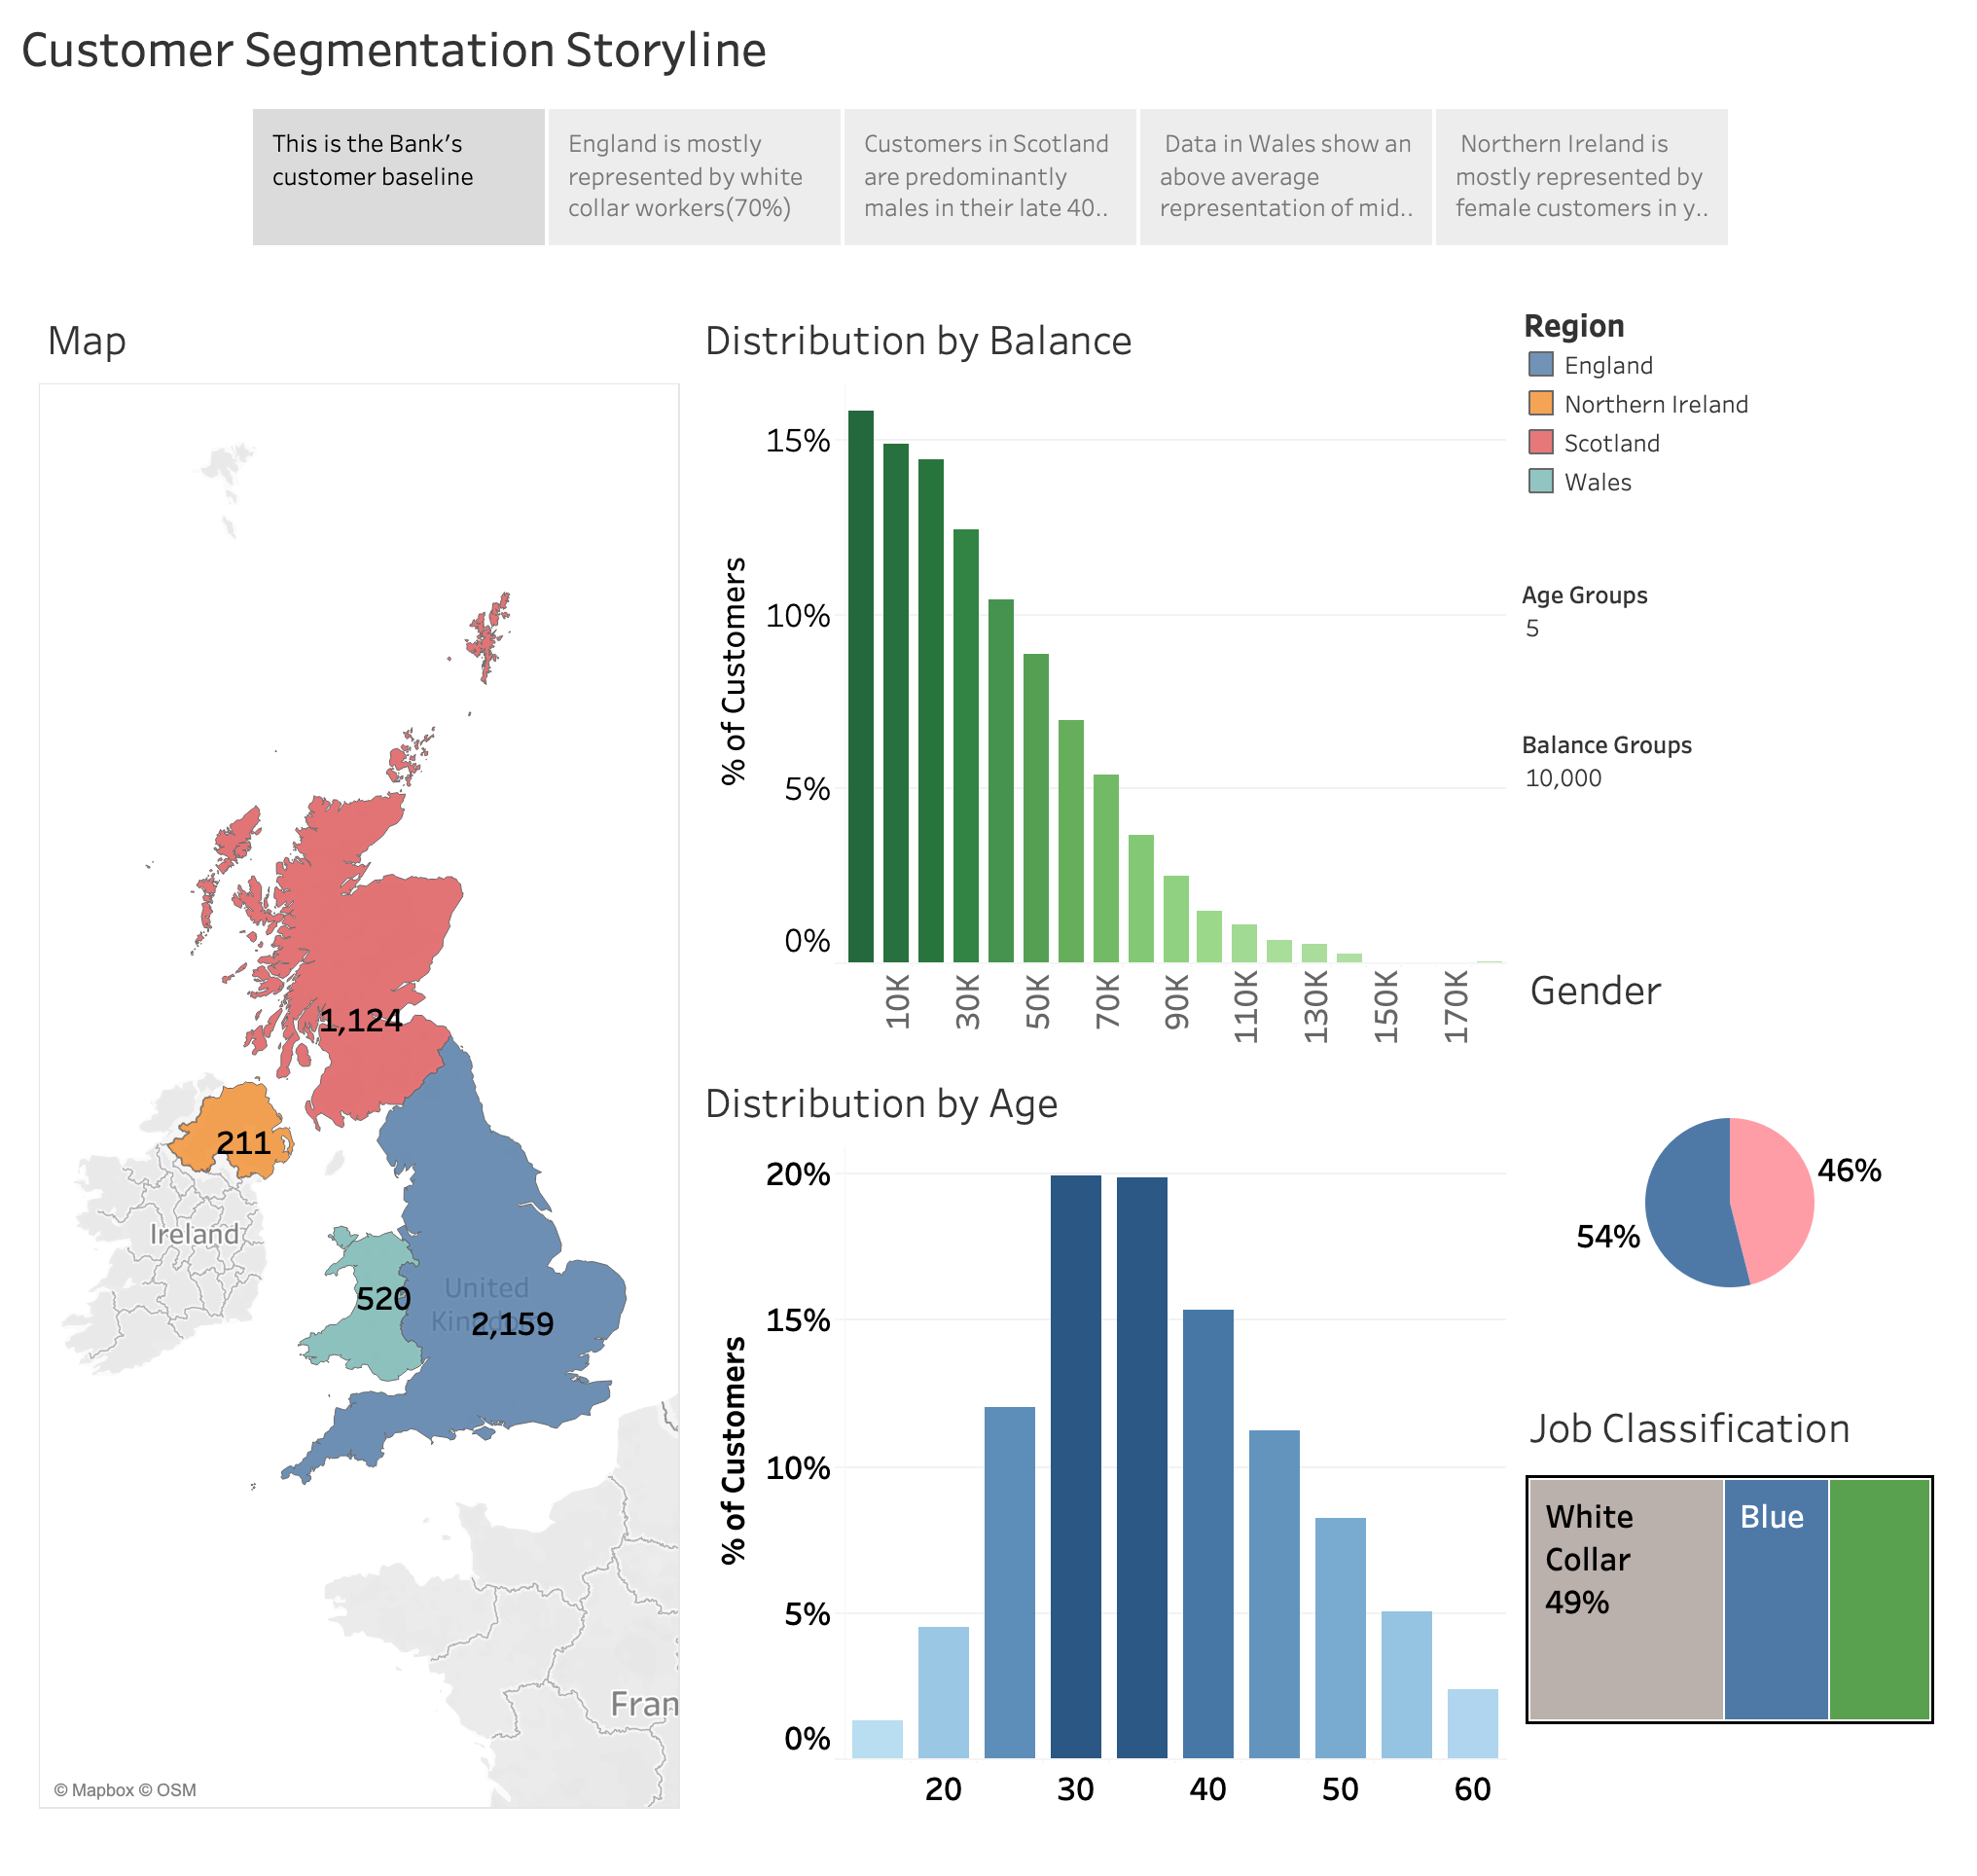

The dashboard page shown, as its layout file describes it:
{"tool":"tableau","page":{"name":"Customer Segmentation Dashboard","canvas":[1000,800],"ordinal":0},"visuals":[{"type":"worksheet","title":"Map","mark":"Multipolygon","box":[8,8,338,784]},{"type":"worksheet","title":"Distribution by Balance","mark":"Automatic","rows":["Number of Records"],"cols":["Balance (bin)"],"box":[346,8,424,392]},{"type":"legend","title":"Map","param":"[federated.1neb1is0u4rftg11r2do61d7kz10].[none:Region:nk]","box":[770,8,222,142]},{"type":"parameter","param":"[Parameters].[Parameter 2]","box":[770,150,222,77]},{"type":"parameter","param":"[Parameters].[Parameter 1]","box":[770,227,222,115]},{"type":"worksheet","title":"Gender","mark":"Pie","box":[770,342,222,225]},{"type":"worksheet","title":"Distribution by Age","mark":"Bar","rows":["Number of Records"],"cols":["Age (bin)"],"box":[346,400,424,392]},{"type":"worksheet","title":"Job Classification","mark":"Automatic","box":[770,567,222,225]}]}

Visuals, with their boxes on the page's 1000x800 design canvas (x1, y1, x2, y2). These are canvas units, not pixel positions in the 1977x1876 screenshot, which may show the page scaled, cropped or inside an application window:
"Map" worksheet (Multipolygon marks): x1=8 y1=8 x2=346 y2=792
"Distribution by Balance" worksheet: x1=346 y1=8 x2=770 y2=400
"Map" legend: x1=770 y1=8 x2=992 y2=150
parameter: x1=770 y1=150 x2=992 y2=227
parameter: x1=770 y1=227 x2=992 y2=342
"Gender" worksheet (Pie marks): x1=770 y1=342 x2=992 y2=567
"Distribution by Age" worksheet (Bar marks): x1=346 y1=400 x2=770 y2=792
"Job Classification" worksheet: x1=770 y1=567 x2=992 y2=792
